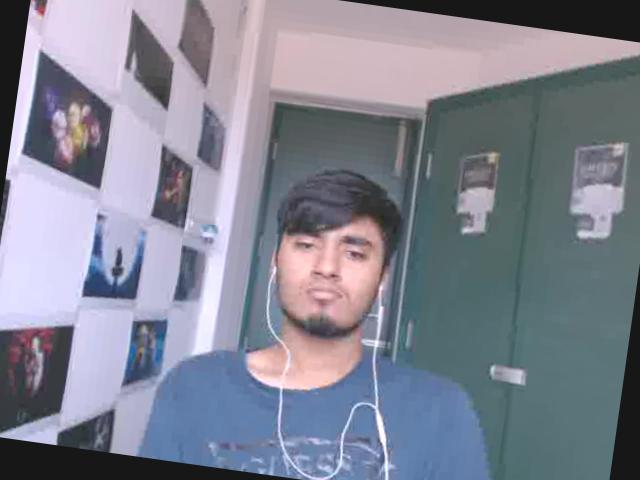bosan: (268, 200, 384, 328)
